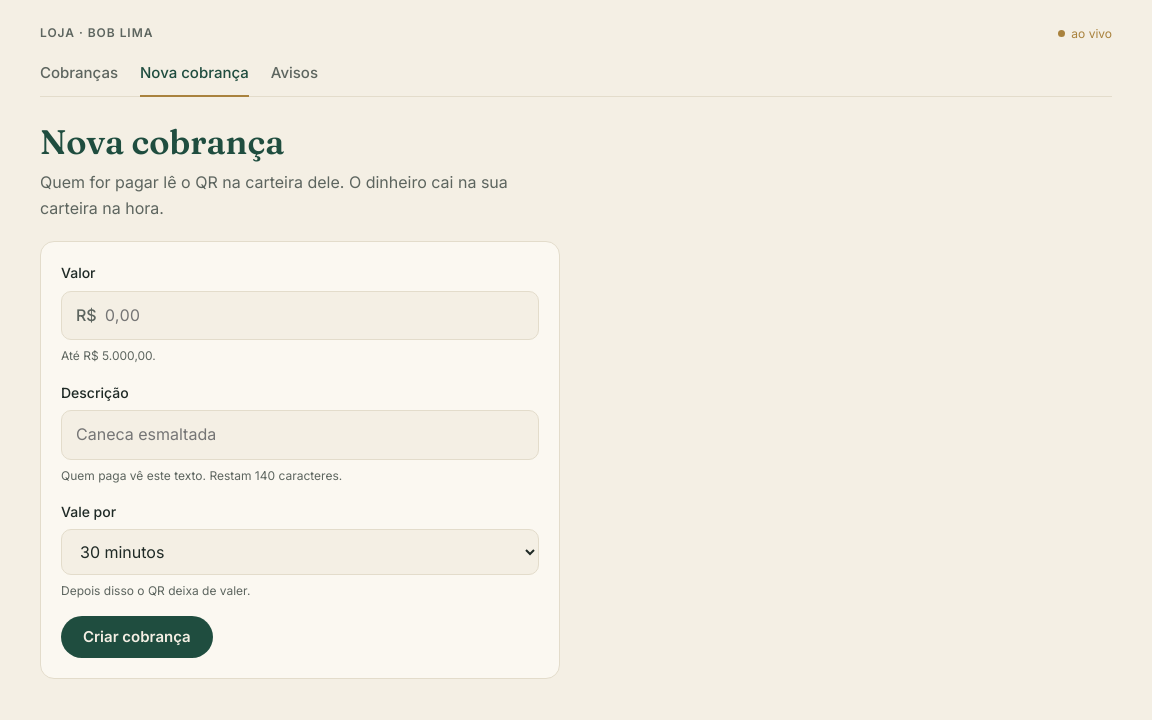
Test: Nova cobrança › mostra a mensagem da API quando ela recusa
Type "10" into the field labelled "Valor".
click(317, 316); type("10")  # box [97,292,538,340]
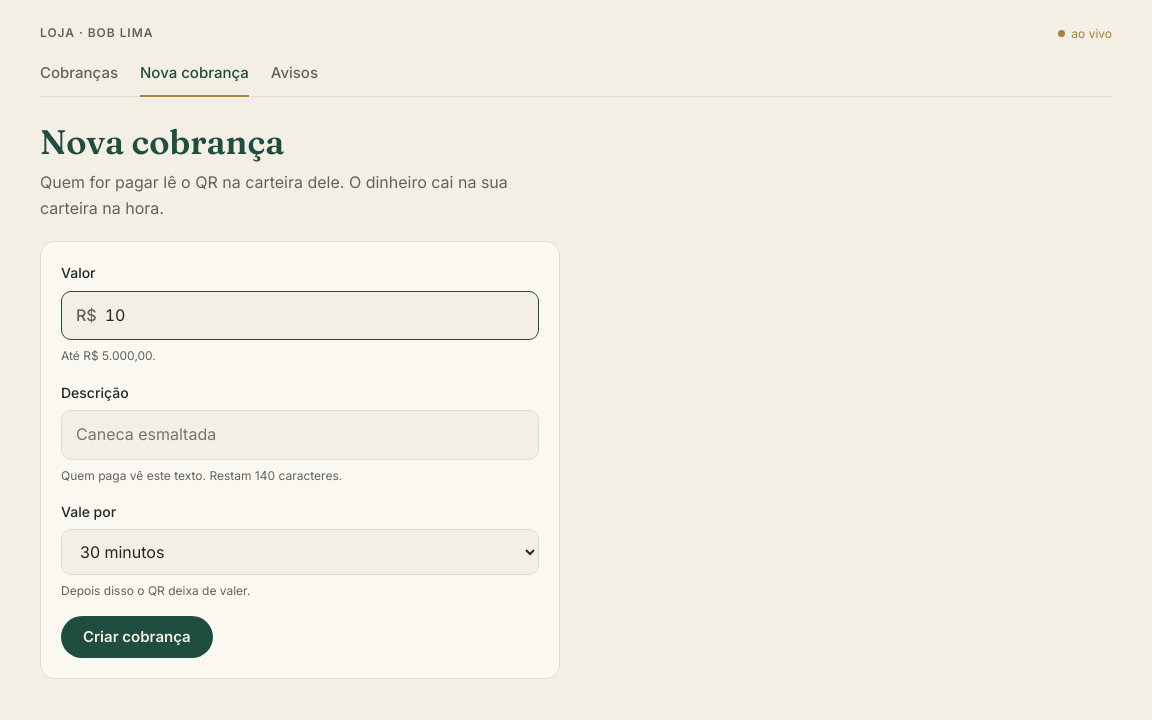
Type "Pão" into the field labelled "Descrição".
click(300, 435); type("Pão")  # box [61,410,539,460]
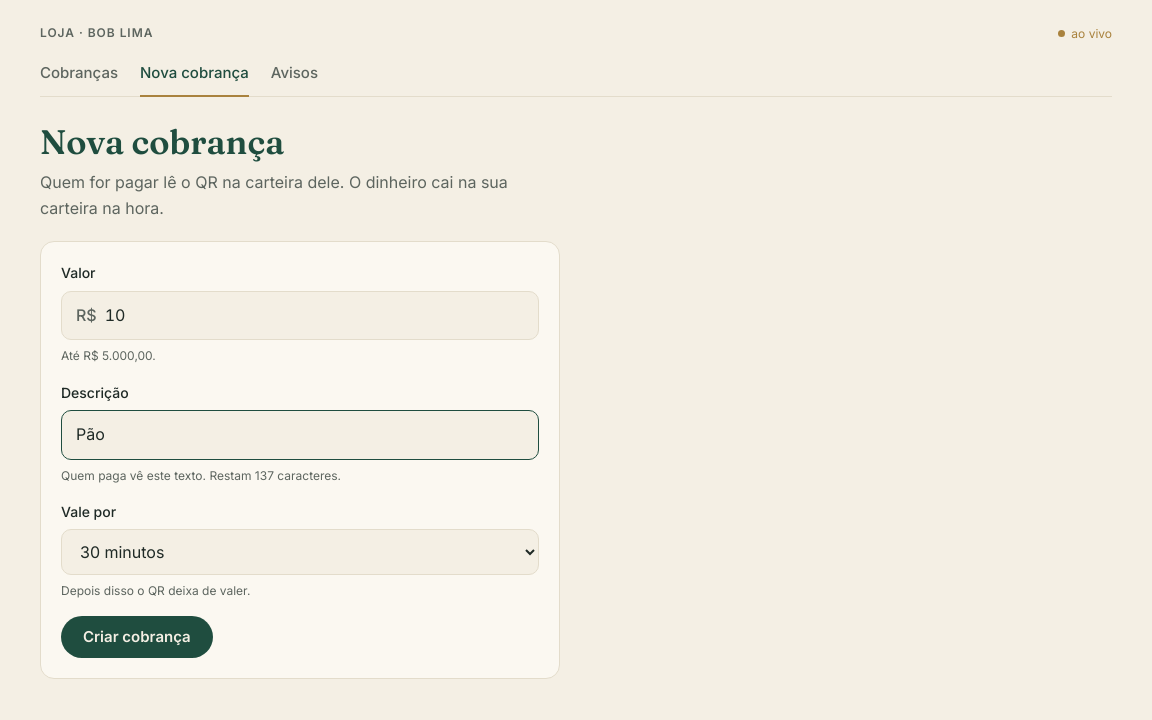
Click the button "Criar cobrança".
click(137, 637)  # box [61,616,213,658]
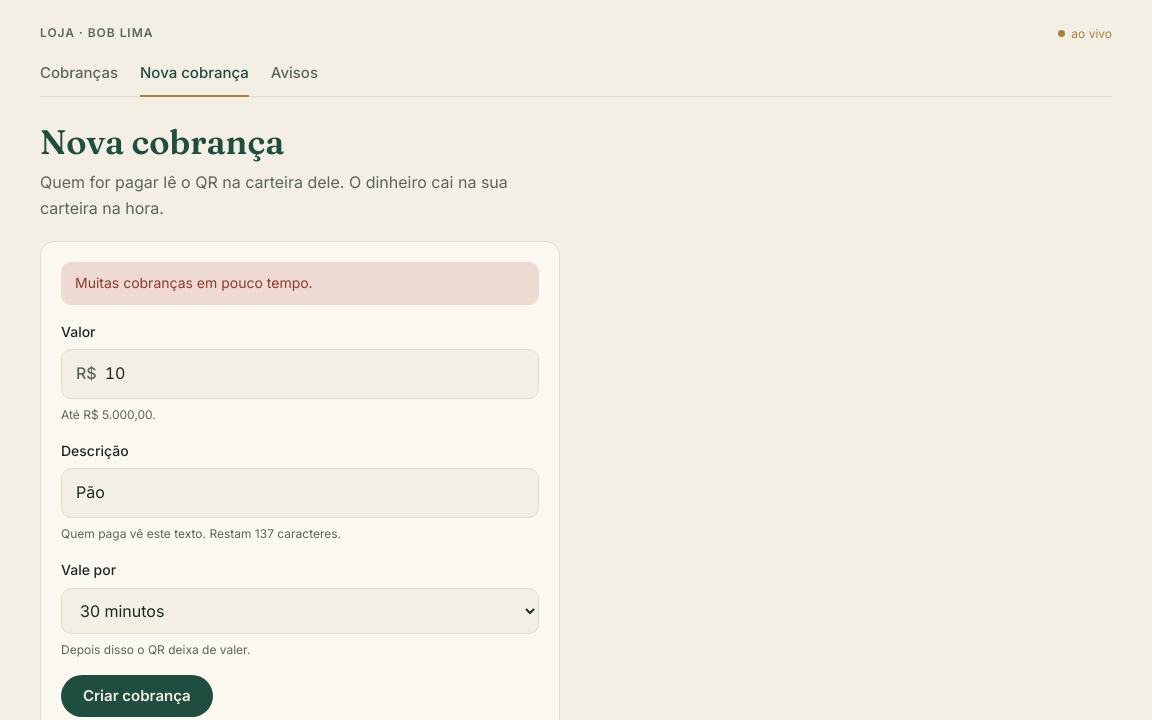
Expected: the button "Criar cobrança" is enabled, [61,675,213,717]
Now the message reads "Muitas cobranças em pouco tempo.", box [75,274,313,292]
